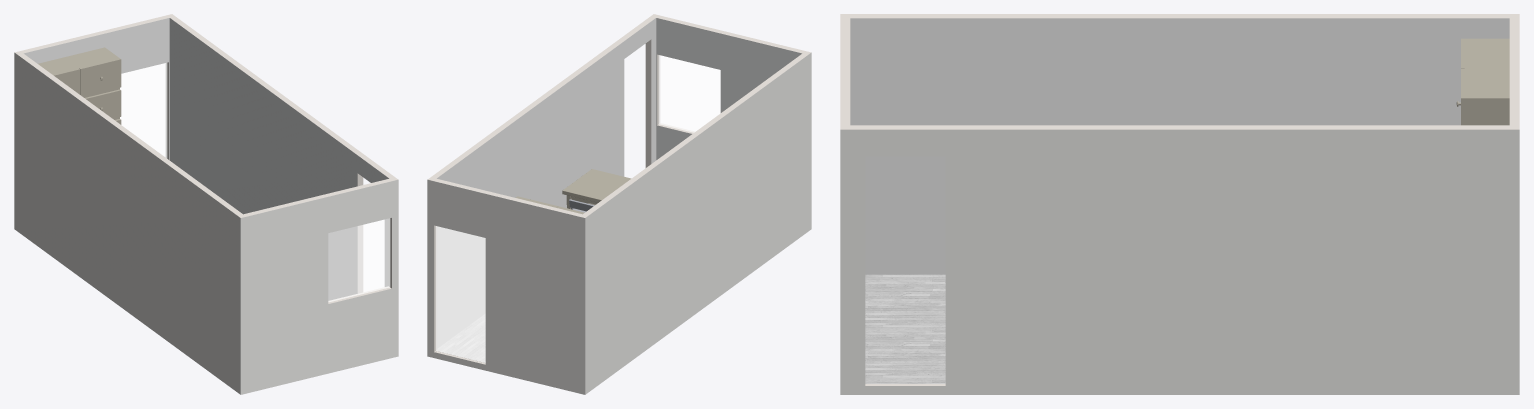
The model's file is Salle_213.glb.
3 renders of one model, left to right at view 1: azimuth 30°, elevation 25°; view 2: azimuth 150°, elevation 25°; view 3: azimuth 270°, elevation 25°, orthographic. The views are drawn at different scales.
Parts seen in each view (by area): view 1: wall_0, wall_3, wall_6, window_0, window_2, wall_8, door_0, storage_cabinet_tall20, door_2, wall_7, wall_5, wall_11 (+1 smaller); view 2: wall_0, wall_2, wall_6, wall_10, door_0, door_2, window_0, window_2, wall_7, table_other_rect1, wall_5, floor_Dining_Room (+2 smaller); view 3: wall_1, wall_4, floor_Dining_Room, storage_cabinet_tall20, wall_7, wall_5, wall_9, wall_11.
Boxes of the visible parts, x1=… form: wall_0: x1=14, y1=52, x2=240, y2=394; wall_3: x1=240, y1=179, x2=398, y2=394; wall_6: x1=169, y1=18, x2=388, y2=300; window_0: x1=328, y1=218, x2=389, y2=301; window_2: x1=328, y1=218, x2=389, y2=301; wall_8: x1=24, y1=18, x2=169, y2=159; door_0: x1=120, y1=63, x2=166, y2=157; storage_cabinet_tall20: x1=38, y1=47, x2=121, y2=124; door_2: x1=120, y1=63, x2=166, y2=157; wall_7: x1=170, y1=14, x2=397, y2=293; wall_5: x1=15, y1=52, x2=242, y2=217; wall_11: x1=241, y1=178, x2=397, y2=303; wall_0: x1=585, y1=52, x2=811, y2=394; wall_2: x1=427, y1=179, x2=585, y2=394; wall_6: x1=437, y1=18, x2=656, y2=347; wall_10: x1=656, y1=18, x2=801, y2=159; door_0: x1=436, y1=226, x2=485, y2=362; door_2: x1=436, y1=226, x2=485, y2=362; window_0: x1=659, y1=55, x2=720, y2=132; window_2: x1=659, y1=55, x2=720, y2=132; wall_7: x1=428, y1=14, x2=655, y2=179; table_other_rect1: x1=562, y1=169, x2=631, y2=209; wall_5: x1=583, y1=52, x2=810, y2=217; floor_Dining_Room: x1=436, y1=314, x2=485, y2=362; wall_1: x1=840, y1=129, x2=1519, y2=394; wall_4: x1=850, y1=18, x2=1509, y2=274; floor_Dining_Room: x1=865, y1=274, x2=945, y2=383; storage_cabinet_tall20: x1=1456, y1=38, x2=1509, y2=125; wall_7: x1=840, y1=125, x2=1519, y2=385; wall_5: x1=841, y1=14, x2=1518, y2=18; wall_9: x1=1509, y1=14, x2=1519, y2=129; wall_11: x1=840, y1=14, x2=850, y2=129.
Bounding box in the file's own units: 2.76 × 2.96 × 6.86.
Materials: 18 (1 with a texture image).
